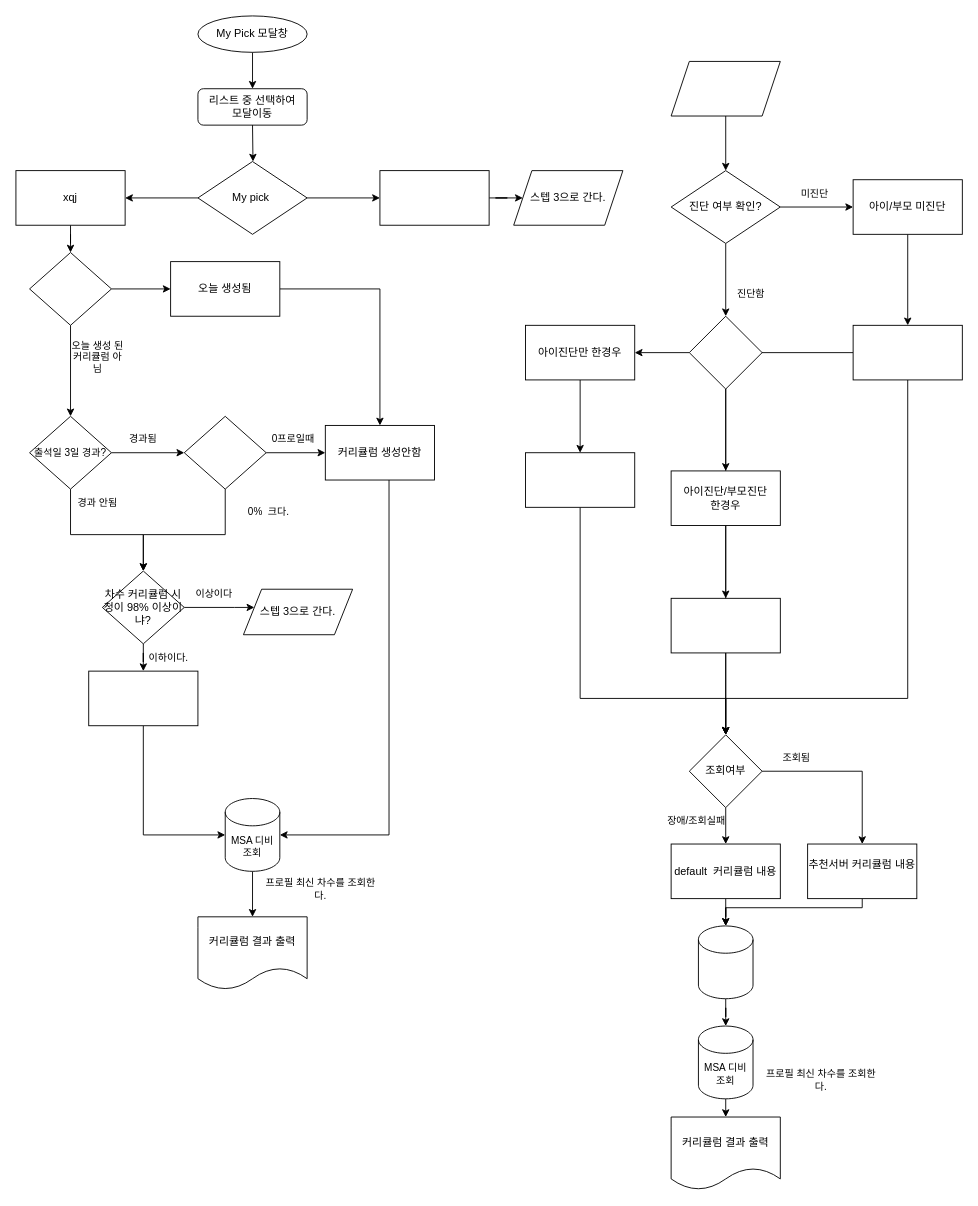
Some shapes in this 978 by 1206 pixel diagram are drawn without their labels. Here are the shapes that lost their labels. From the top down, the centre of each, then its label:
the point at 725,88: STEP3
the point at 434,197: 없다.
the point at 70,288: 기존 차수 오늘 생성여부
the point at 725,352: 진단 상황
the point at 907,352: 미진단 커리큘럼 추천서버 조회
the point at 224,452: 지난 커리큘럼 시청 이력 0%
the point at 580,479: 아이진단 커리큘럼 추천서버 조회
the point at 725,625: 진단 커리큘럼 추천 서버 조회
the point at 143,698: 커리큘럼 생성안함.
the point at 725,962: MSA 디비 저장
